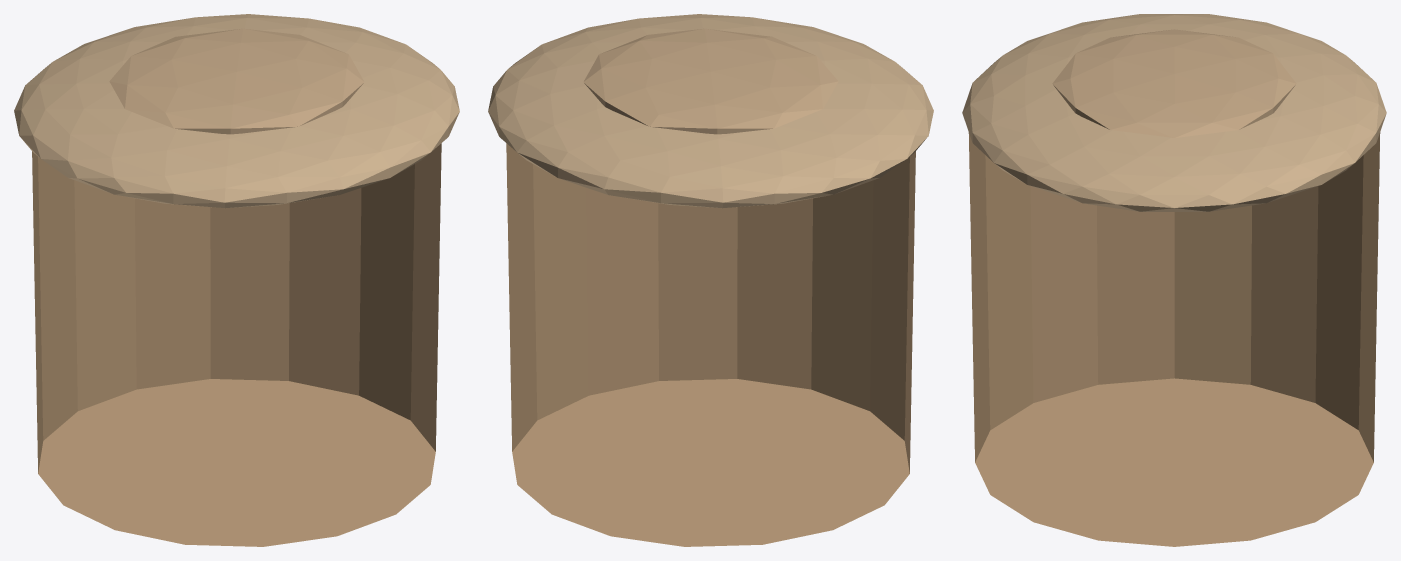
The model's file is tree_stump.glb.
3 views of the same model, side by side, from view 1: azimuth 30°, elevation 25°; view 2: azimuth 150°, elevation 25°; view 3: azimuth 270°, elevation 25° (orthographic).
Visible parts, largest first — view 1: tree_stump_00_wood, tree_stump_01_cut_top, tree_stump_02_rings; view 2: tree_stump_00_wood, tree_stump_01_cut_top, tree_stump_02_rings; view 3: tree_stump_00_wood, tree_stump_01_cut_top, tree_stump_02_rings.
Part boxes in pixels (box(x1,y1,x2,y2)): tree_stump_00_wood: box(32, 143, 441, 546); tree_stump_01_cut_top: box(14, 14, 459, 208); tree_stump_02_rings: box(109, 28, 364, 134); tree_stump_00_wood: box(506, 143, 915, 546); tree_stump_01_cut_top: box(488, 14, 933, 208); tree_stump_02_rings: box(583, 28, 838, 134); tree_stump_00_wood: box(968, 132, 1380, 546); tree_stump_01_cut_top: box(962, 14, 1386, 211); tree_stump_02_rings: box(1052, 29, 1296, 137).
Bounding box in the file's own units: 0.7 × 0.667 × 0.66.
